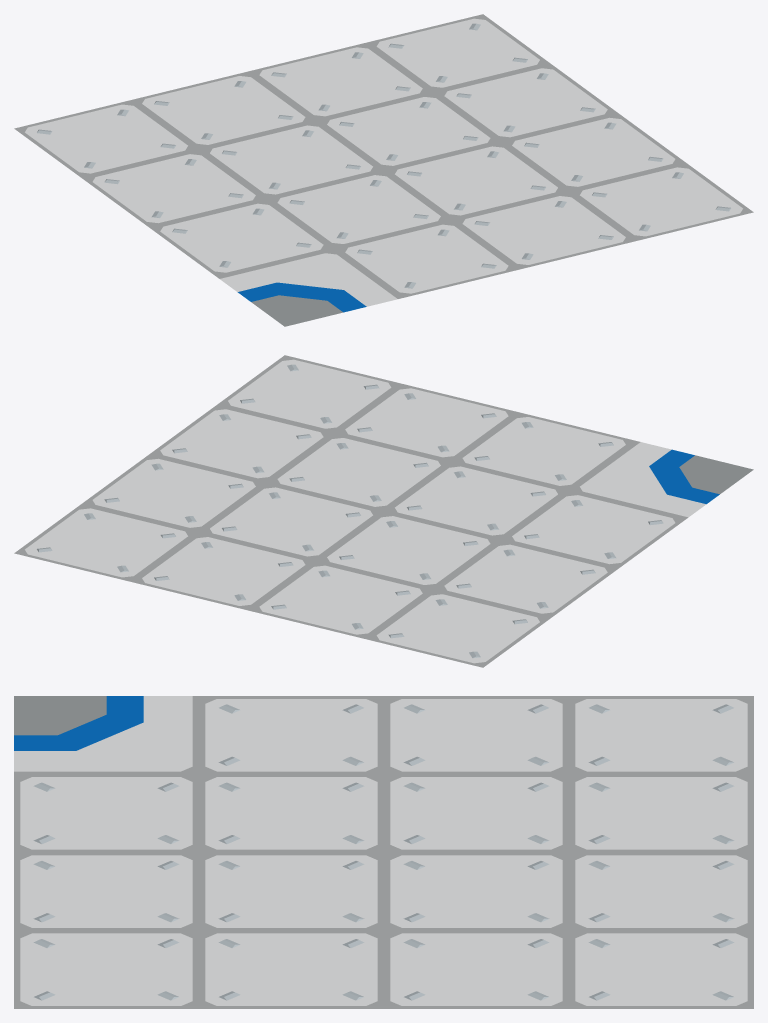
File: Floor_type_A_019.fbx
3 views of the same model, one above another, from view 1: azimuth 30°, elevation 25°; view 2: azimuth 150°, elevation 25°; view 3: azimuth 270°, elevation 25° (orthographic). The views are drawn at different scales.
Parts seen in each view (by area): view 1: Floor_type_A_019; view 2: Floor_type_A_019; view 3: Floor_type_A_019.
Boxes of the visible parts, <box> form: Floor_type_A_019: <box>14,14,753,326</box>; Floor_type_A_019: <box>14,355,753,667</box>; Floor_type_A_019: <box>14,696,753,1008</box>.
Size of the model in its own units: 400 by 400 by 0.8.
